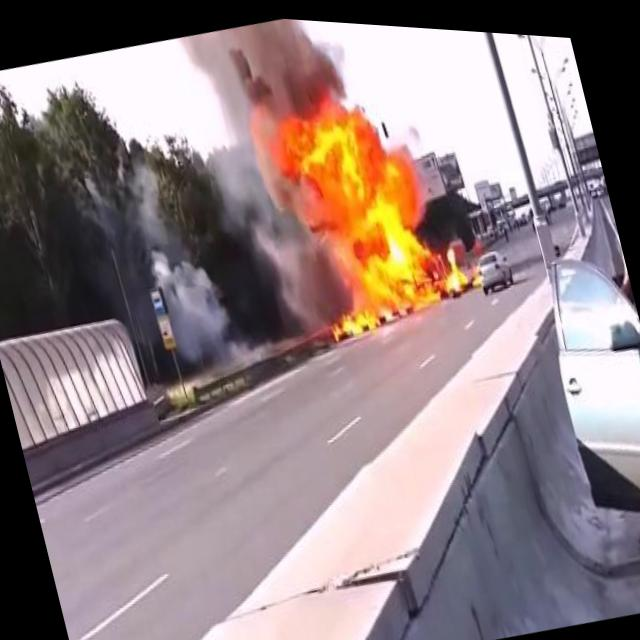fire: (246, 45, 479, 354)
